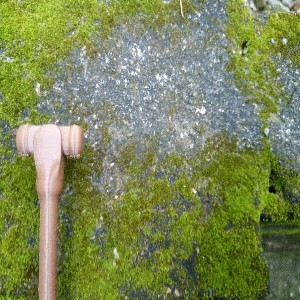palu: (15, 122, 82, 300)
